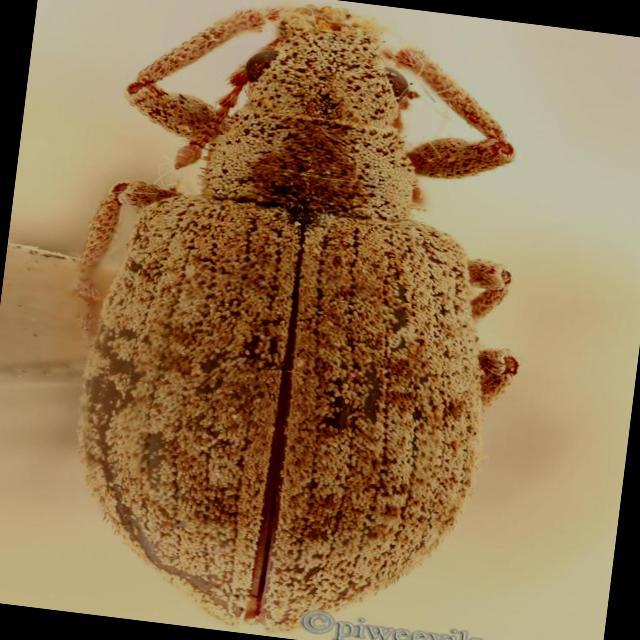ricebug: (80, 6, 517, 629)
